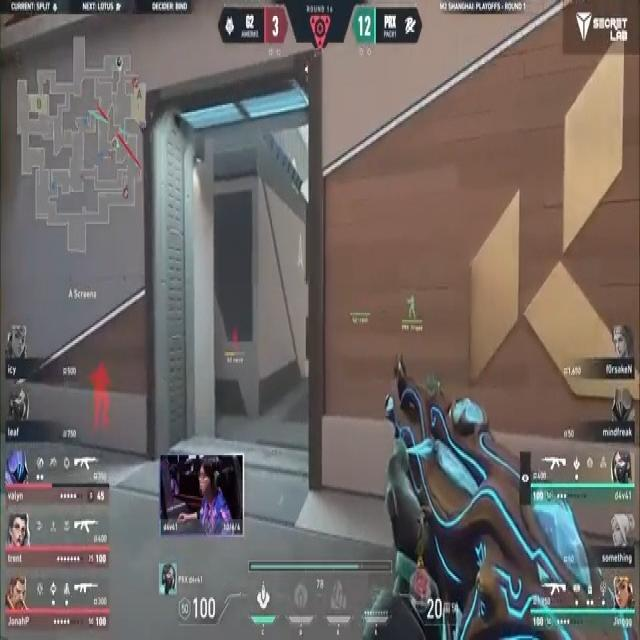ally behind wall: (404, 290, 419, 320)
enemy behind wall: (87, 356, 116, 433)
